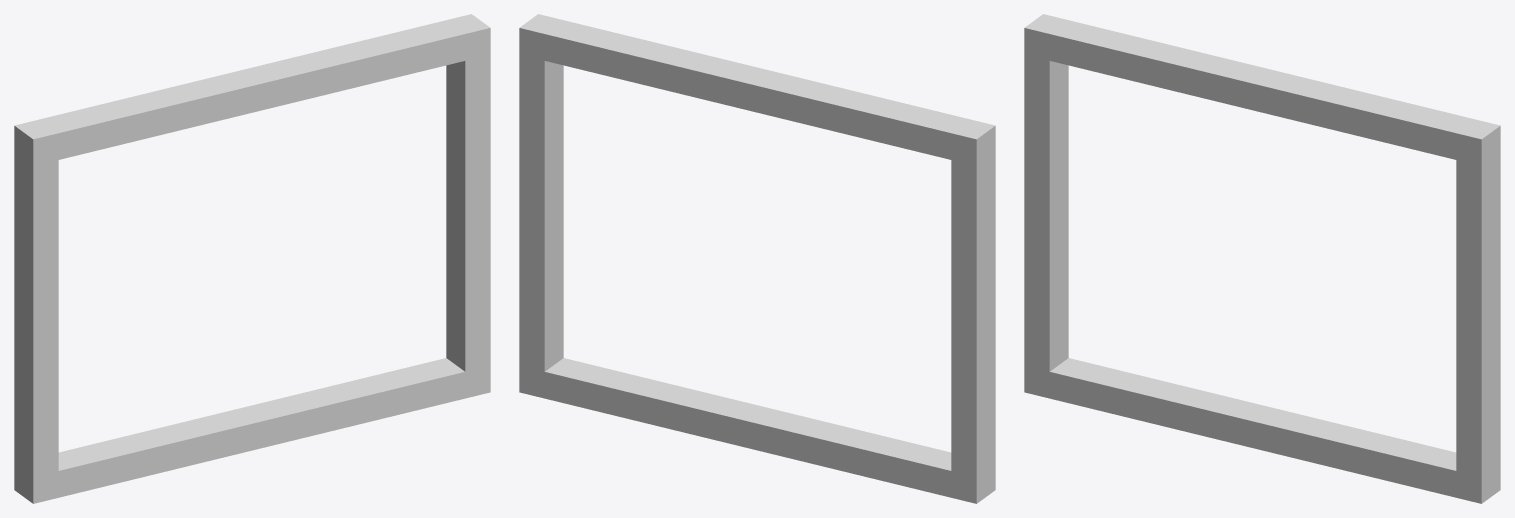
Rendered from Window3_01_2.fbx.
3 views of the same model, side by side, from view 1: azimuth 30°, elevation 25°; view 2: azimuth 150°, elevation 25°; view 3: azimuth 330°, elevation 25° (orthographic).
Parts seen in each view (by area): view 1: Window3_01_2; view 2: Window3_01_2; view 3: Window3_01_2.
Part boxes in pixels (left/top/right/bottom): Window3_01_2: left=14, top=14, right=490, bottom=503; Window3_01_2: left=519, top=14, right=995, bottom=503; Window3_01_2: left=1024, top=14, right=1500, bottom=503.
Bounding box in the file's own units: 80.38 × 61.23 × 5.76.
